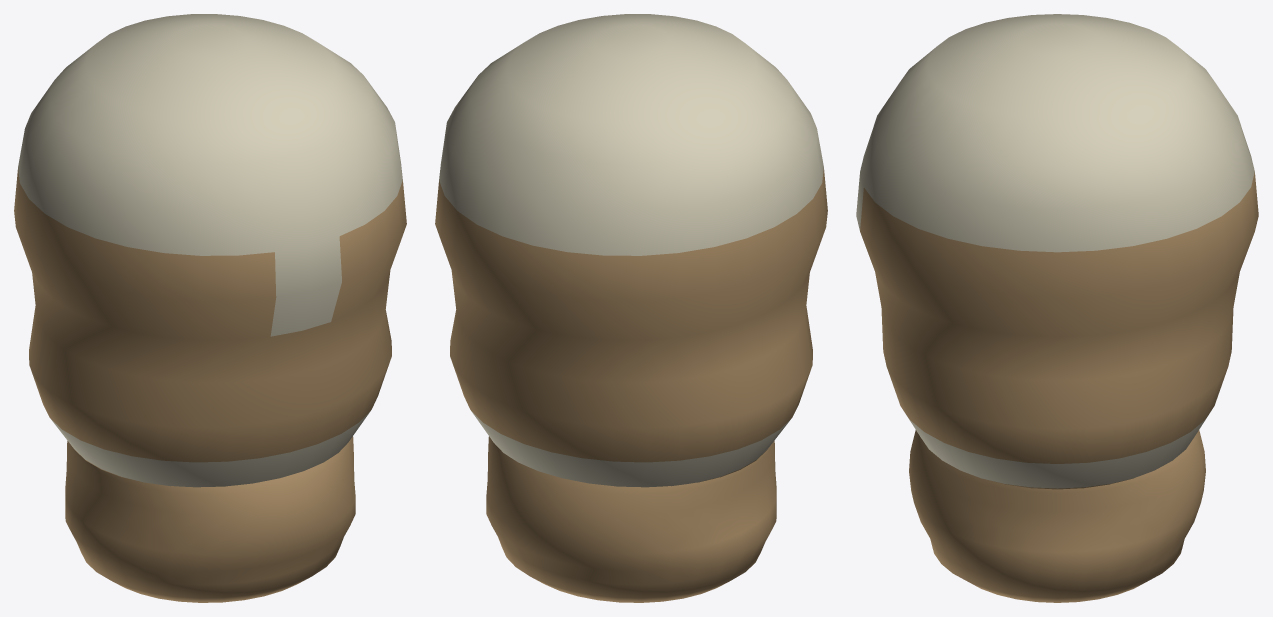
The model's file is body.gltf.
3 renders of one model, left to right at view 1: azimuth 30°, elevation 25°; view 2: azimuth 150°, elevation 25°; view 3: azimuth 270°, elevation 25°, orthographic.
Visible parts, largest first — view 1: body.022, Sphere.151; view 2: body.022, Sphere.151; view 3: body.022, Sphere.151.
Part boxes in pixels (left/top/right/bottom): body.022: left=14, top=14, right=406, bottom=487; Sphere.151: left=65, top=436, right=355, bottom=602; body.022: left=435, top=14, right=827, bottom=487; Sphere.151: left=486, top=436, right=776, bottom=602; body.022: left=856, top=14, right=1258, bottom=489; Sphere.151: left=909, top=430, right=1205, bottom=602.
Bounding box in the file's own units: 0.2714 × 0.4028 × 0.2798.
2 materials, 2 textured.
